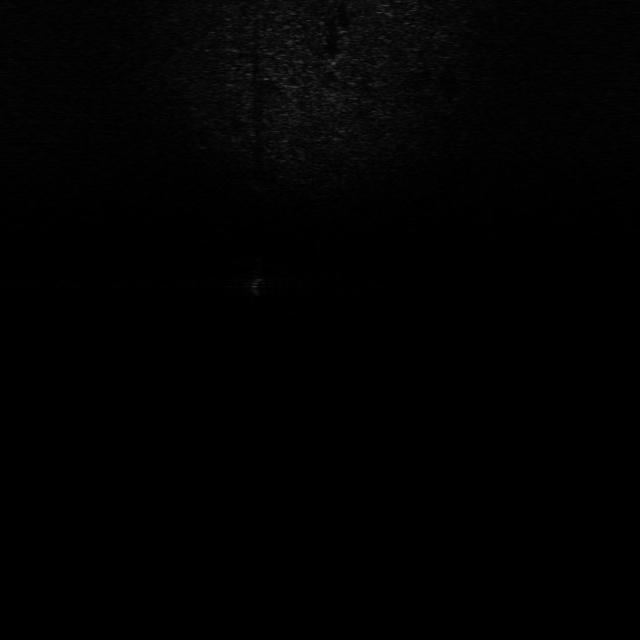human body: (234, 256, 280, 302)
